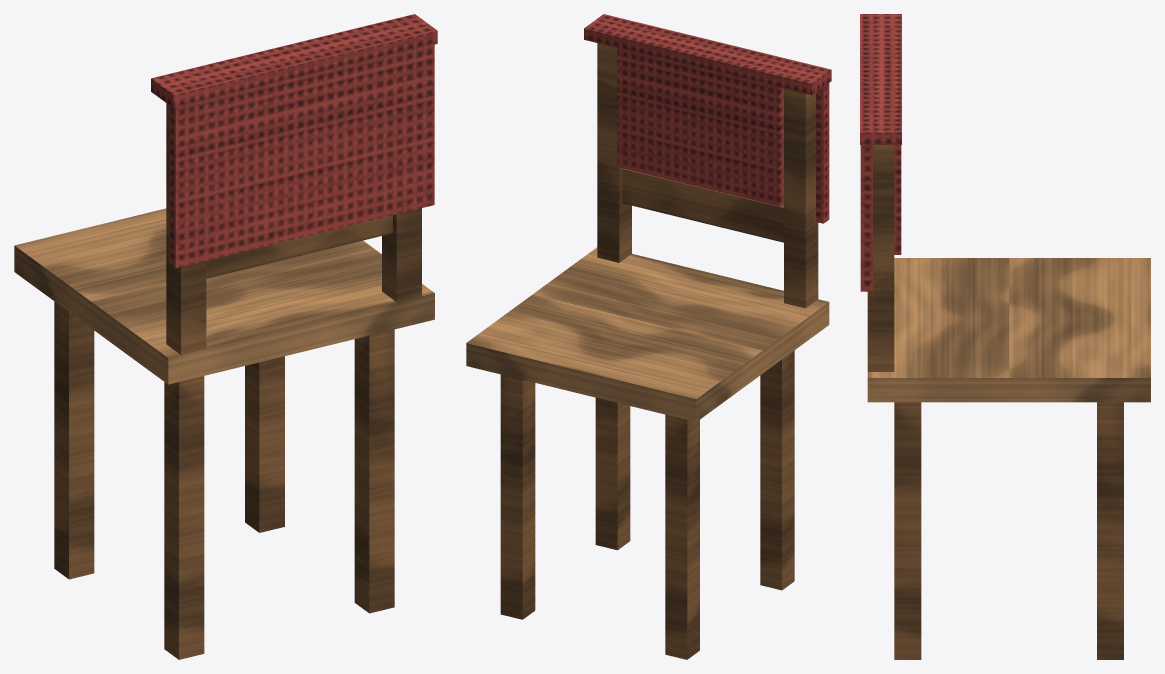
File: desk_chair_cardigan.fbx
3 renders of one model, left to right at view 1: azimuth 30°, elevation 25°; view 2: azimuth 150°, elevation 25°; view 3: azimuth 270°, elevation 25°, orthographic. The views are drawn at different scales.
Visible parts, largest first — view 1: desk_chair_cardigan; view 2: desk_chair_cardigan; view 3: desk_chair_cardigan.
Part boxes in pixels (<box>): desk_chair_cardigan: <box>14,14,437,659</box>; desk_chair_cardigan: <box>466,14,831,659</box>; desk_chair_cardigan: <box>860,14,1150,659</box>.
Bounding box in the file's own units: 42 × 88 × 43.1.
